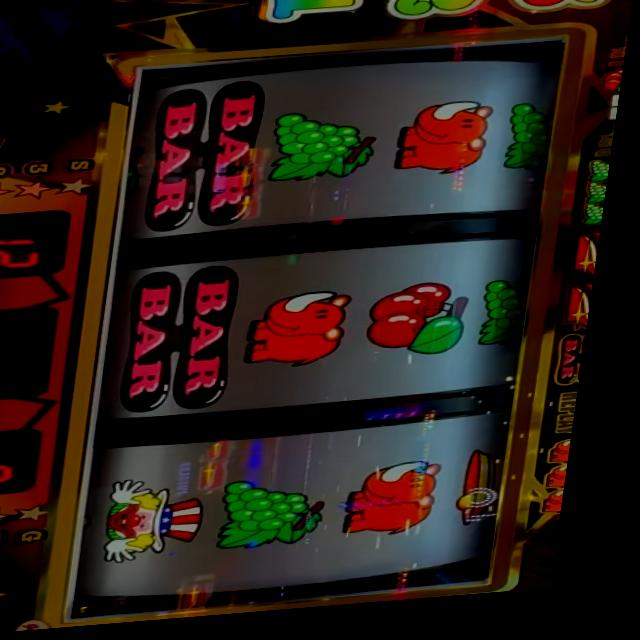bar: (147, 83, 273, 236), (127, 268, 253, 420), (562, 343, 597, 399)
bell: (467, 457, 526, 537)
cherry: (371, 287, 483, 368), (602, 77, 627, 105)
clown: (114, 477, 225, 568)
display: (80, 41, 574, 627)
elephant: (252, 293, 367, 377), (354, 465, 462, 548), (395, 105, 502, 187), (560, 448, 585, 475), (558, 476, 582, 499), (557, 501, 579, 526)
grape: (226, 479, 348, 557), (270, 112, 388, 190), (503, 110, 559, 183), (485, 285, 539, 358), (592, 168, 617, 193), (587, 215, 612, 237), (591, 192, 614, 215)
z: (569, 292, 603, 344), (579, 241, 608, 291)
